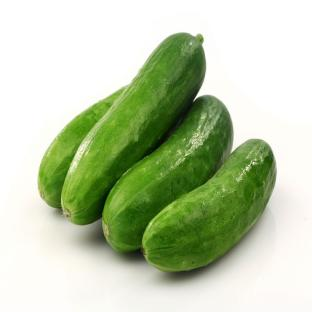Cucumber: (62, 33, 205, 224), (103, 96, 233, 252), (143, 140, 276, 271), (38, 87, 126, 208)
